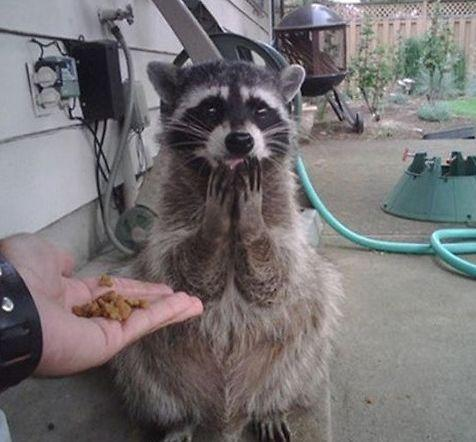raccoon: (101, 59, 350, 442)
